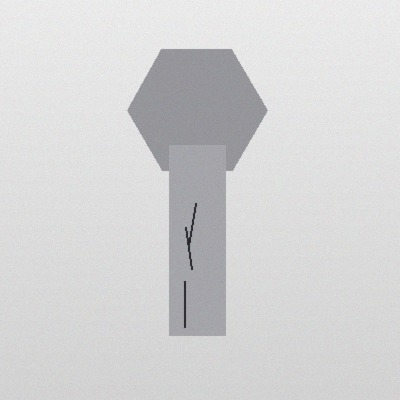scratch: (182, 199, 201, 250), (179, 223, 197, 273), (178, 277, 190, 331)
